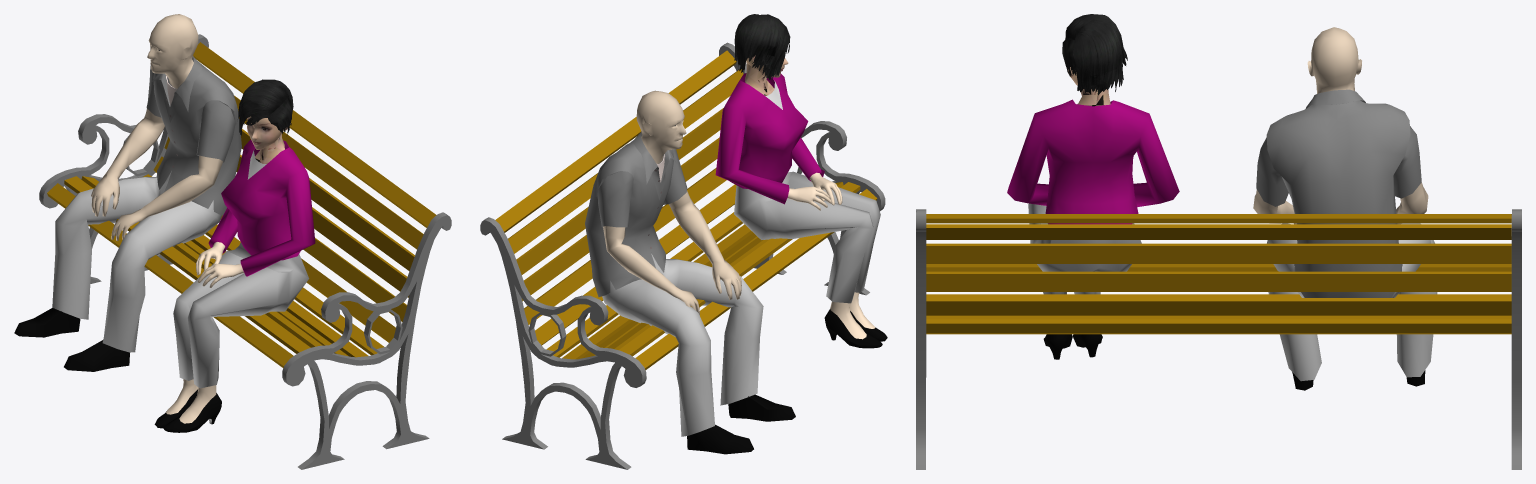
File: sp-furn-bench2-5x2ft.glb
3 views of the same model, side by side, from view 1: azimuth 30°, elevation 25°; view 2: azimuth 150°, elevation 25°; view 3: azimuth 270°, elevation 25° (orthographic). The views are drawn at different scales.
Parts seen in each view (by area): view 1: 3DGeom-13, 3DGeom-11, 3DGeom-8, 3DGeom-18, 3DGeom-25, 3DGeom-3, 3DGeom-10, 3DGeom-23, 3DGeom-28, 3DGeom-20; view 2: 3DGeom-13, 3DGeom-11, 3DGeom-8, 3DGeom-18, 3DGeom-25, 3DGeom-3, 3DGeom-10, 3DGeom-23, 3DGeom-28, 3DGeom-20; view 3: 3DGeom-13, 3DGeom-11, 3DGeom-18, 3DGeom-23, 3DGeom-3, 3DGeom-8, 3DGeom-25, 3DGeom-10.
Part boxes in pixels (box(x1,y1,x2,y2)): 3DGeom-13: box(47, 42, 436, 367); 3DGeom-11: box(39, 34, 451, 469); 3DGeom-8: box(52, 171, 221, 352); 3DGeom-18: box(208, 139, 315, 276); 3DGeom-25: box(173, 242, 309, 388); 3DGeom-3: box(91, 14, 223, 240); 3DGeom-10: box(14, 308, 221, 432); 3DGeom-23: box(237, 79, 293, 135); 3DGeom-28: box(166, 242, 244, 423); 3DGeom-20: box(247, 116, 290, 163); 3DGeom-13: box(495, 50, 877, 370); 3DGeom-11: box(480, 42, 885, 469); 3DGeom-8: box(602, 253, 763, 436); 3DGeom-18: box(715, 73, 824, 204); 3DGeom-25: box(734, 171, 880, 303); 3DGeom-3: box(603, 90, 741, 315); 3DGeom-10: box(687, 309, 887, 454); 3DGeom-23: box(734, 14, 790, 79); 3DGeom-28: box(787, 172, 875, 339); 3DGeom-20: box(745, 55, 788, 95); 3DGeom-13: box(926, 214, 1511, 334); 3DGeom-11: box(916, 89, 1521, 469); 3DGeom-18: box(1007, 99, 1179, 224); 3DGeom-23: box(1062, 14, 1127, 95); 3DGeom-3: box(1253, 27, 1428, 224); 3DGeom-8: box(1267, 223, 1437, 381); 3DGeom-25: box(1028, 203, 1141, 294); 3DGeom-10: box(1043, 334, 1425, 390).
Size of the model in its own units: 0.8587 by 1.16 by 1.58.
15 materials, 2 textured.
